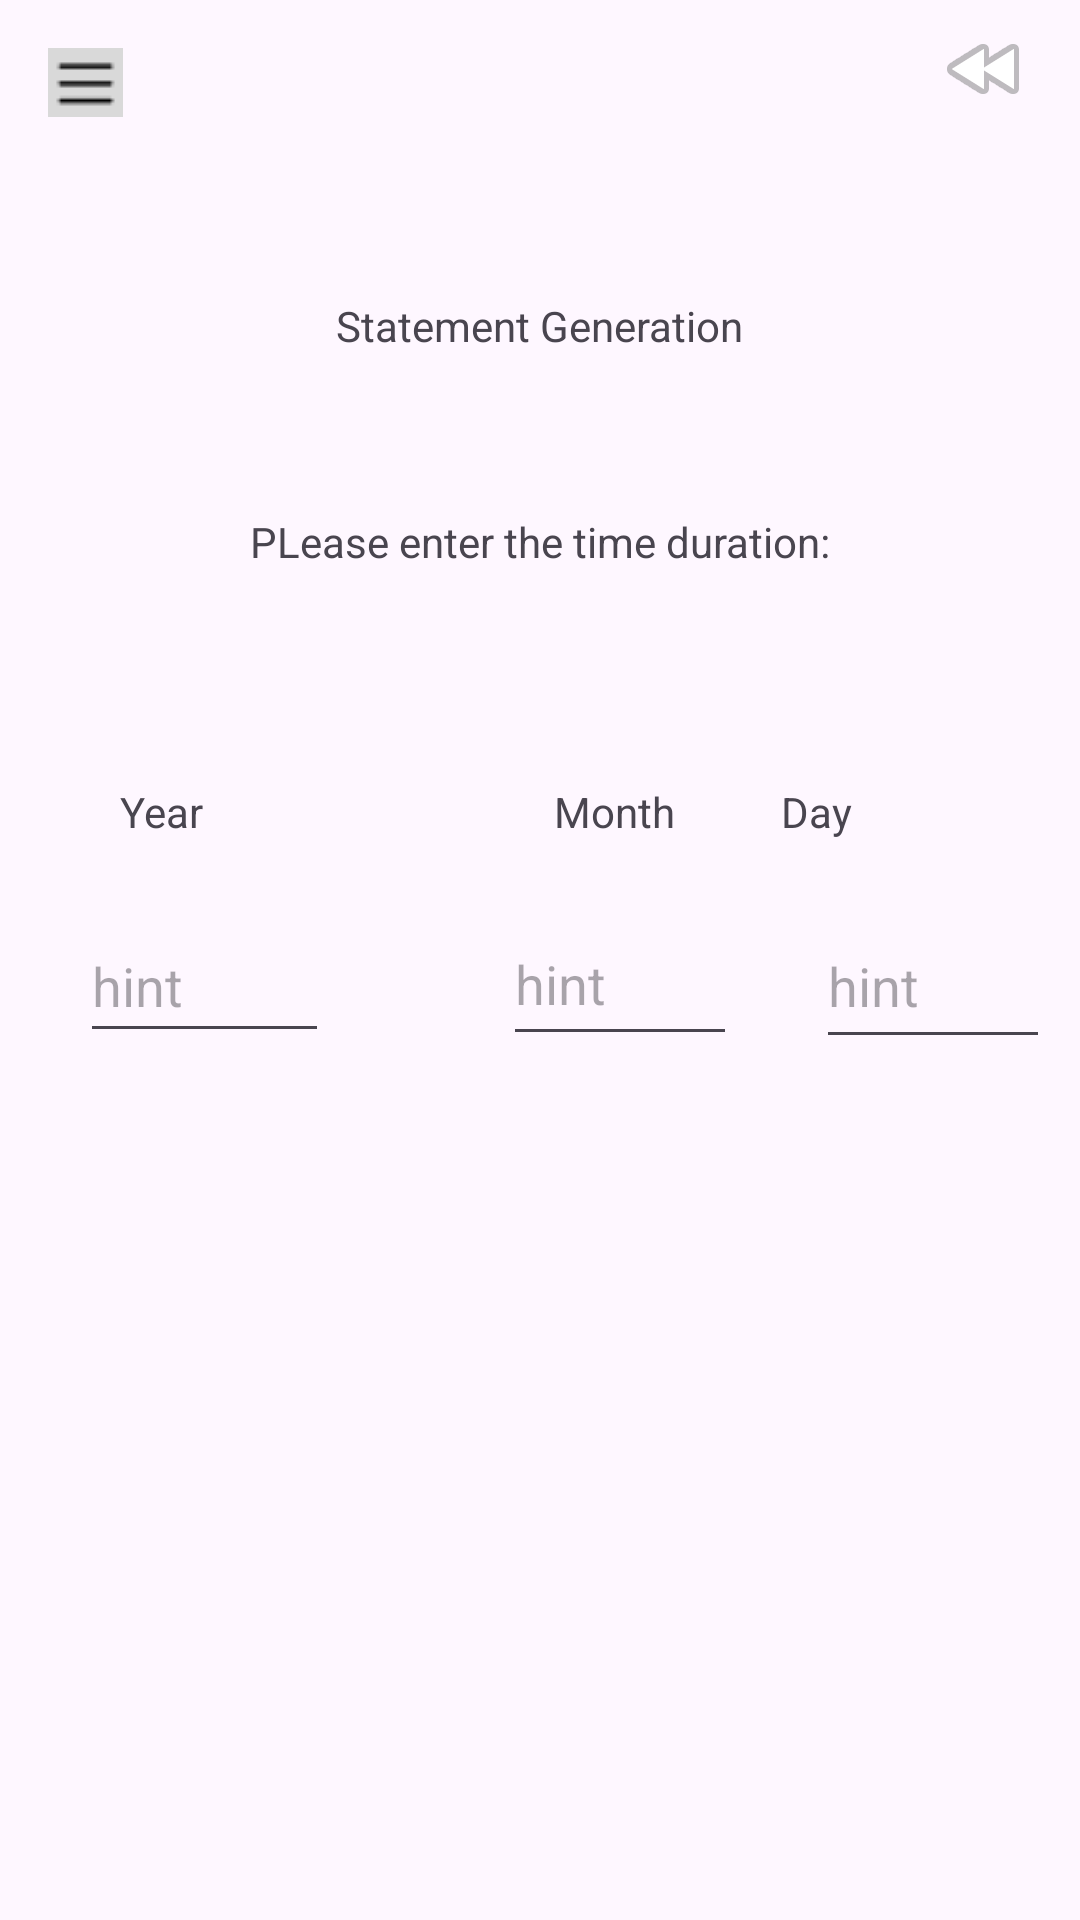

Screen size 1080 × 1920. Icon name, then its center in pixels as (x,y):
hamburger: (85,82)
rew: (983,69)
